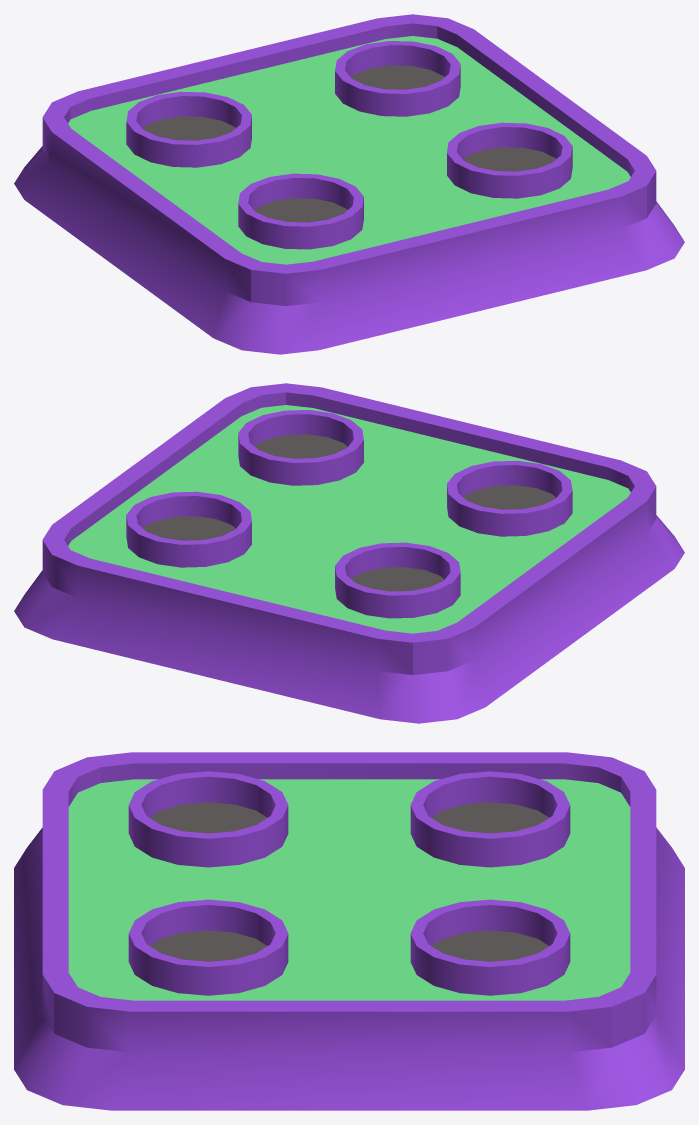
File: Obstacle 26 V4.fbx
3 views of the same model, one above another, from view 1: azimuth 30°, elevation 25°; view 2: azimuth 150°, elevation 25°; view 3: azimuth 270°, elevation 25° (orthographic). The views are drawn at different scales.
Parts seen in each view (by area): view 1: 06 Part 1; view 2: 06 Part 1; view 3: 06 Part 1.
Part boxes in pixels (<box>): 06 Part 1: <box>14,14,684,354</box>; 06 Part 1: <box>14,383,684,723</box>; 06 Part 1: <box>14,752,684,1110</box>.
Size of the model in its own units: 125 by 20.4 by 125.
Materials: 1 (1 with a texture image).
